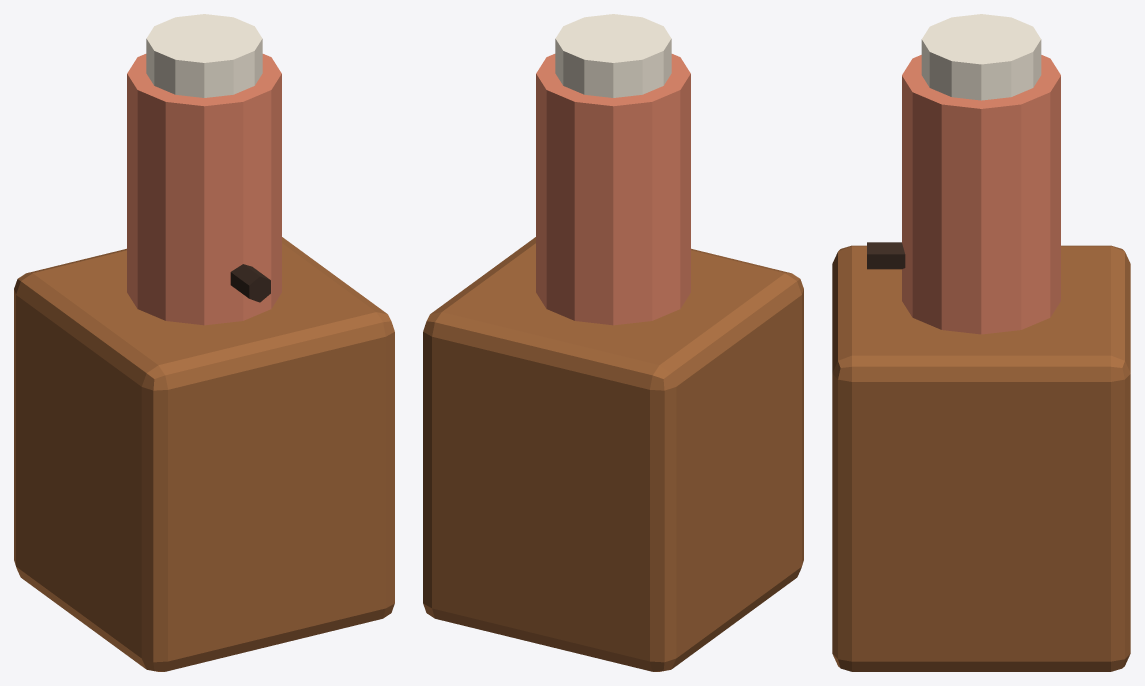
File: int_termos.fbx
The picture shows the model from 3 angles, left to right: view 1: azimuth 30°, elevation 25°; view 2: azimuth 150°, elevation 25°; view 3: azimuth 270°, elevation 25°; orthographic projection. The views are drawn at different scales.
Parts seen in each view (by area): view 1: int_termos; view 2: int_termos; view 3: int_termos.
Boxes of the visible parts, x1,y1,x2,y2 form: int_termos: [14, 14, 394, 671]; int_termos: [423, 14, 803, 671]; int_termos: [832, 14, 1130, 671].
Size of the model in its own units: 60 by 128 by 60.
1 material, 1 textured.
